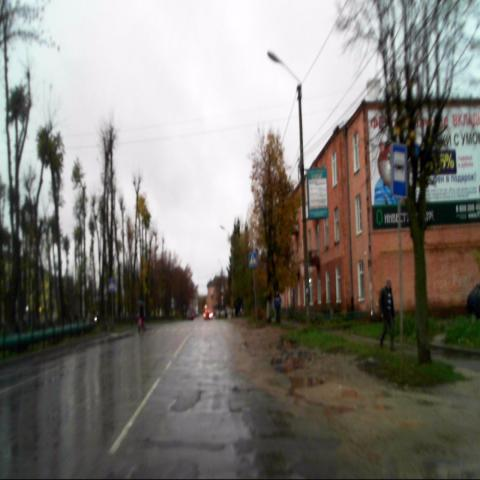5_16: (391, 142, 408, 197)
5_19_1: (248, 252, 257, 268)
